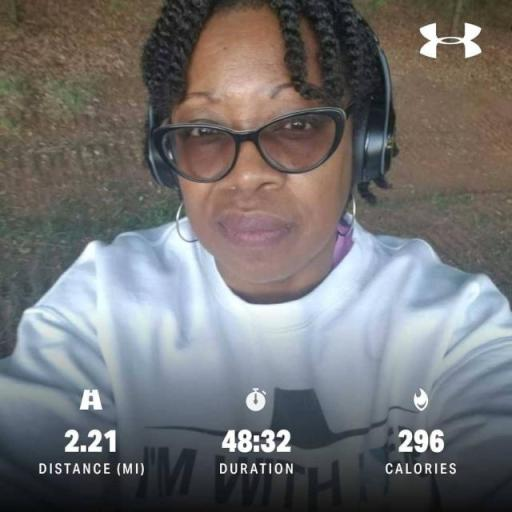Under Armour: (416, 19, 486, 61)
